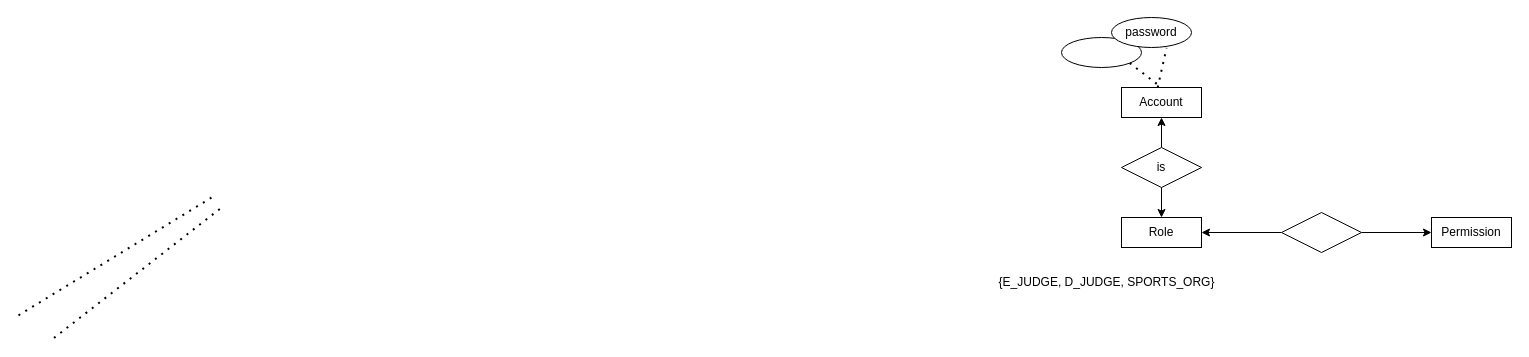
Image size: 1529x357. Some labels were removed from this diagram. The box of each missing label's shape, as (x1, y1, x2, y2) in pixels:
email: (1060, 36, 1142, 68)
has: (1280, 212, 1362, 252)
